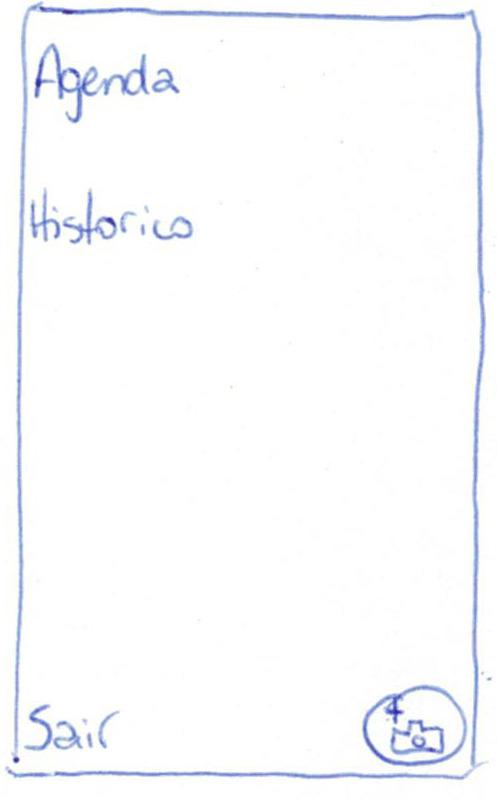Label: (33, 43, 180, 123), (30, 188, 193, 244), (28, 706, 120, 750)
Screen: (7, 6, 485, 777)
